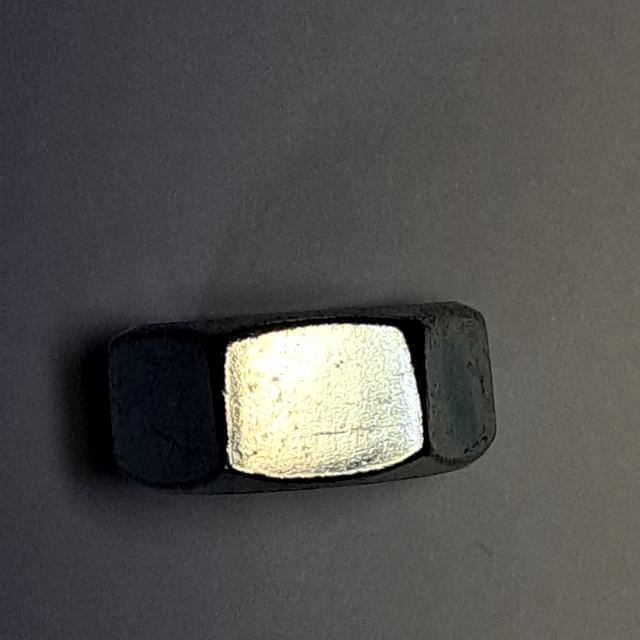Side_Excellent: (96, 275, 507, 517)
